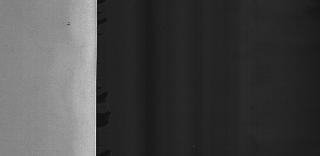oil spot: (66, 20, 74, 31)
